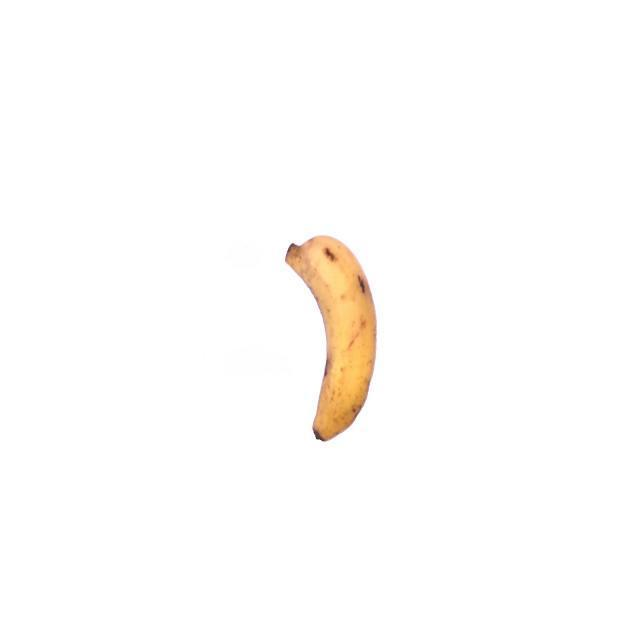Banana: (282, 230, 380, 447)
